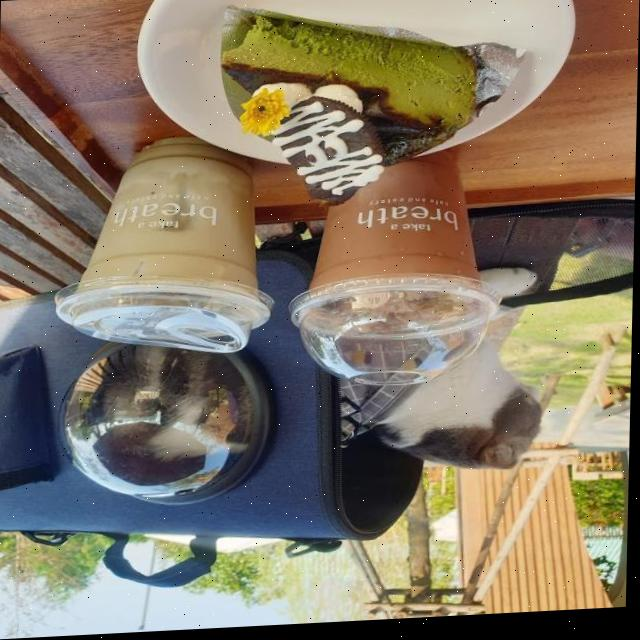cup: (6, 116, 272, 382), (298, 117, 506, 403)
